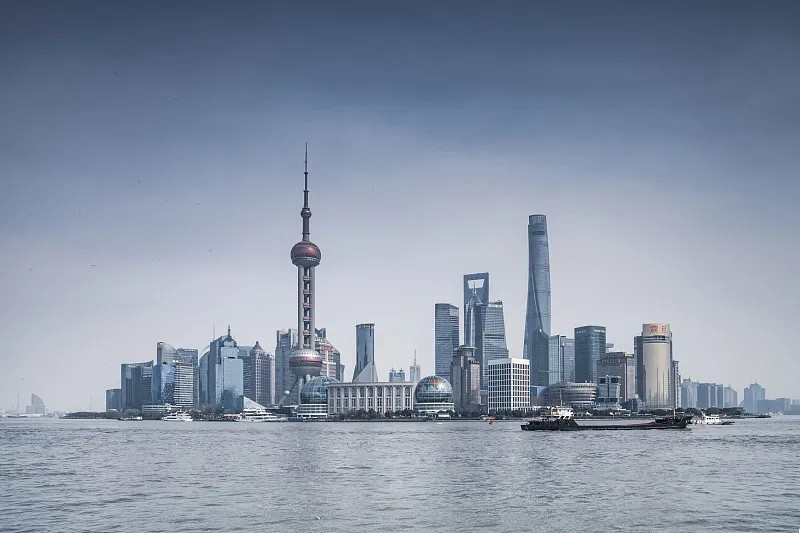Oriental: (277, 142, 323, 403)
